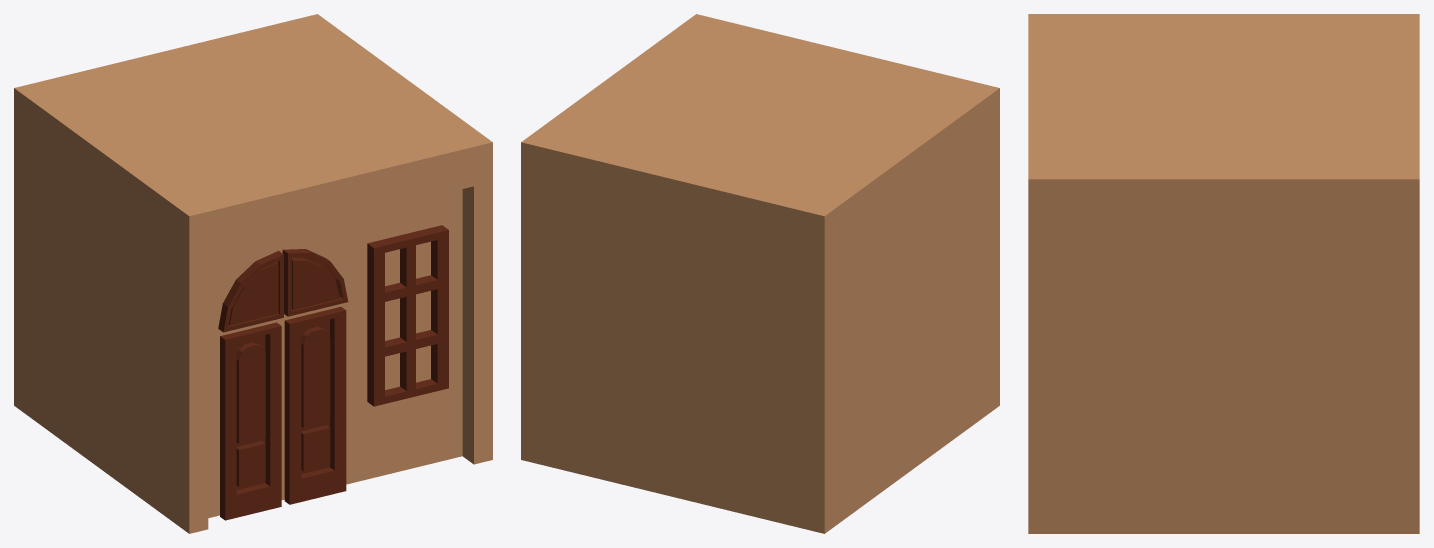
The model's file is BuildingBlockTest.fbx.
3 views of the same model, side by side, from view 1: azimuth 30°, elevation 25°; view 2: azimuth 150°, elevation 25°; view 3: azimuth 270°, elevation 25° (orthographic). The views are drawn at different scales.
Parts seen in each view (by area): view 1: Cube, Doors, Window, Upper_Door; view 2: Cube; view 3: Cube.
Part boxes in pixels (x1,y1,x2,y2): Cube: [14, 14, 492, 533]; Doors: [220, 307, 346, 520]; Window: [367, 225, 448, 406]; Upper_Door: [218, 249, 348, 332]; Cube: [521, 14, 999, 533]; Cube: [1028, 14, 1419, 533].
Size of the model in its own units: 30 by 30 by 30.
